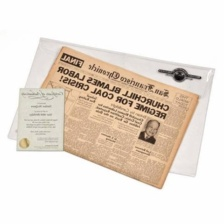news_paper: (25, 44, 203, 190)
